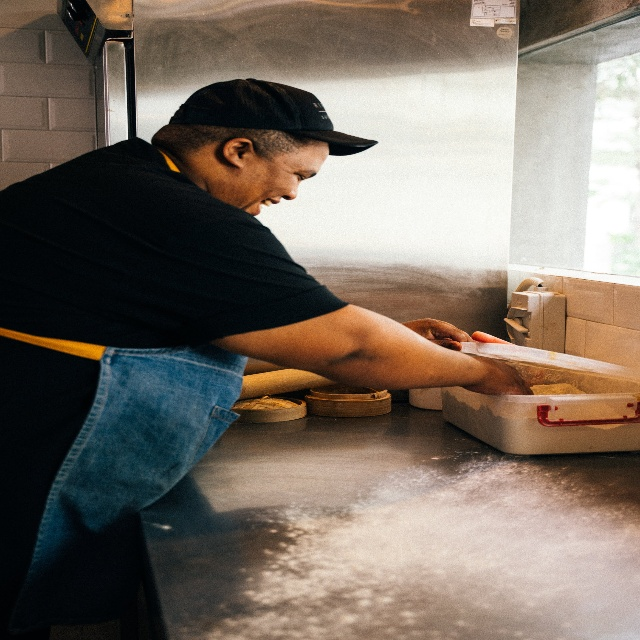Sin_guantes: (473, 354, 531, 408), (408, 312, 466, 352)
